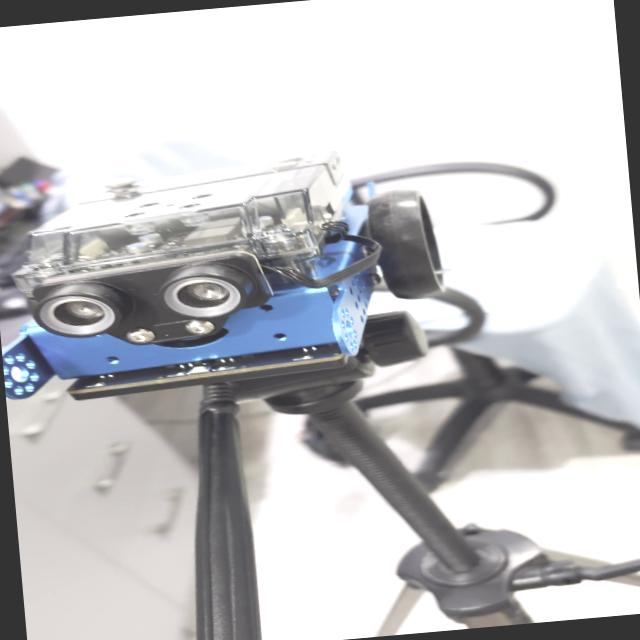mbot-detection: (0, 130, 477, 423)
